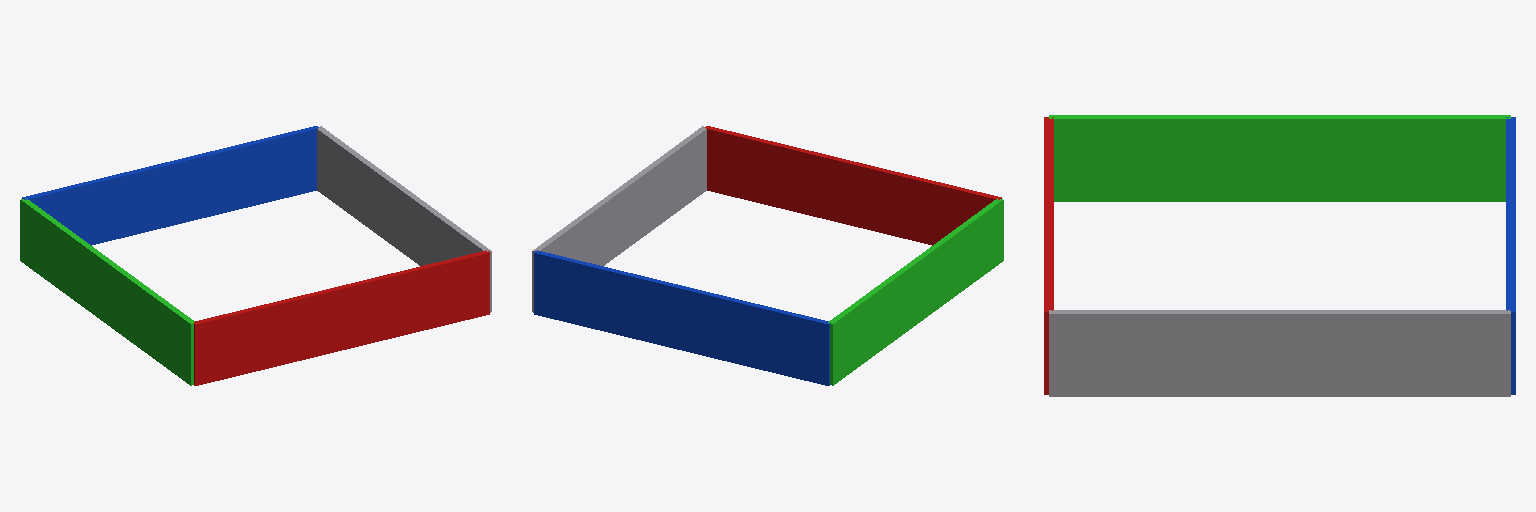
robot.urdf — unnamed:
<robot name="unnamed" version="1.0">
  <joint name="wall_1_2" type="fixed">
    <origin rpy="0.00000 0.00000 0.00000" xyz="0.00000 0.00000 0.00000"/>
    <parent link="wall_1"/>
    <child link="wall_2"/>
  </joint>
  <joint name="wall_2_3" type="fixed">
    <origin rpy="0.00000 0.00000 0.00000" xyz="0.00000 0.00000 0.00000"/>
    <parent link="wall_2"/>
    <child link="wall_3"/>
  </joint>
  <joint name="wall_3_4" type="fixed">
    <origin rpy="0.00000 0.00000 0.00000" xyz="0.00000 0.00000 0.00000"/>
    <parent link="wall_3"/>
    <child link="wall_4"/>
  </joint>
  <link name="wall_1">
    <collision name="wall_1_collision">
      <origin rpy="1.57080 0.00000 0.00000" xyz="2.50000 0.00000 0.50000"/>
      <geometry>
        <box size="0.10000 1.00000 5.00000"/>
      </geometry>
    </collision>
    <visual name="wall_1_visual">
      <origin rpy="0.00000 0.00000 0.00000" xyz="2.50000 0.00000 0.50000"/>
      <material name="grey"/>
      <geometry>
        <box size="0.10000 5.00000 1.00000"/>
      </geometry>
    </visual>
  </link>
  <link name="wall_2">
    <collision name="wall_2_collision">
      <origin rpy="0.00000 0.00000 0.00000" xyz="-2.50000 0.00000 0.50000"/>
      <geometry>
        <box size="0.10000 5.00000 1.00000"/>
      </geometry>
    </collision>
    <visual name="wall_2_visual">
      <origin rpy="0.00000 0.00000 0.00000" xyz="-2.50000 0.00000 0.50000"/>
      <material name="green"/>
      <geometry>
        <box size="0.10000 5.00000 1.00000"/>
      </geometry>
    </visual>
  </link>
  <link name="wall_3">
    <collision name="wall_3_collision">
      <origin rpy="0.00000 0.00000 0.00000" xyz="0.00000 2.50000 0.50000"/>
      <geometry>
        <box size="5.00000 0.10000 1.00000"/>
      </geometry>
    </collision>
    <visual name="wall_3_visual">
      <origin rpy="0.00000 0.00000 0.00000" xyz="0.00000 2.50000 0.50000"/>
      <material name="bliue"/>
      <geometry>
        <box size="5.00000 0.10000 1.00000"/>
      </geometry>
    </visual>
  </link>
  <link name="wall_4">
    <collision name="wall_4_collision">
      <origin rpy="0.00000 0.00000 0.00000" xyz="0.00000 -2.50000 0.50000"/>
      <geometry>
        <box size="5.00000 0.10000 1.00000"/>
      </geometry>
    </collision>
    <visual name="wall_4_visual">
      <origin rpy="0.00000 0.00000 0.00000" xyz="0.00000 -2.50000 0.50000"/>
      <material name="red"/>
      <geometry>
        <box size="5.00000 0.10000 1.00000"/>
      </geometry>
    </visual>
  </link>
  <material name="bliue">
    <color rgba="0.11373 0.33333 0.80000 1.00000"/>
  </material>
  <material name="green">
    <color rgba="0.20392 0.80000 0.20392 1.00000"/>
  </material>
  <material name="grey">
    <color rgba="0.66275 0.65098 0.67059 1.00000"/>
  </material>
  <material name="red">
    <color rgba="0.80000 0.12157 0.12157 1.00000"/>
  </material>
</robot>

--- Render facts (derived) ---
The picture shows the robot from 3 angles, left to right: view 1: azimuth 30°, elevation 25°; view 2: azimuth 150°, elevation 25°; view 3: azimuth 270°, elevation 25°; orthographic projection.
Model unnamed with 4 links and 3 joints (3 fixed), rooted at wall_1, posed all joints at 0.
Links seen in each view (by area): view 1: wall_4, wall_3, wall_2, wall_1; view 2: wall_3, wall_4, wall_2, wall_1; view 3: wall_1, wall_2, wall_3, wall_4.
Link boxes in pixels (<box>): wall_4: <box>194,250,489,385</box>; wall_3: <box>22,126,318,245</box>; wall_2: <box>20,198,194,385</box>; wall_1: <box>317,126,491,312</box>; wall_3: <box>534,250,829,385</box>; wall_4: <box>705,126,1001,245</box>; wall_2: <box>828,198,1003,385</box>; wall_1: <box>532,126,706,312</box>; wall_1: <box>1049,310,1510,396</box>; wall_2: <box>1049,115,1510,201</box>; wall_3: <box>1506,117,1515,394</box>; wall_4: <box>1044,117,1053,394</box>.
Size in the robot's own frame: 5.1 by 5.1 by 1 metres.
Geometry: primitives only (box / cylinder / sphere), no mesh files.